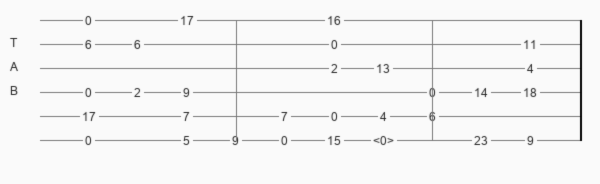0: (85, 134, 96, 147), (85, 86, 96, 99), (85, 14, 96, 27), (281, 134, 292, 147), (331, 110, 342, 123), (331, 38, 342, 51), (429, 86, 440, 99)
11: (523, 38, 541, 51)
13: (376, 62, 394, 75)
14: (474, 86, 492, 99)
15: (327, 134, 345, 147)
16: (327, 14, 345, 27)
17: (82, 110, 100, 123), (180, 14, 198, 27)
18: (523, 86, 541, 99)
2: (134, 86, 145, 99), (331, 62, 342, 75)
23: (474, 134, 492, 147)
4: (380, 110, 391, 123), (527, 62, 538, 75)
5: (183, 134, 194, 147)
6: (85, 38, 96, 51), (134, 38, 145, 51), (429, 110, 440, 123)
7: (183, 110, 194, 123), (281, 110, 292, 123)
9: (183, 86, 194, 99), (232, 134, 243, 147), (527, 134, 538, 147)
harmonic: (373, 134, 398, 147)
